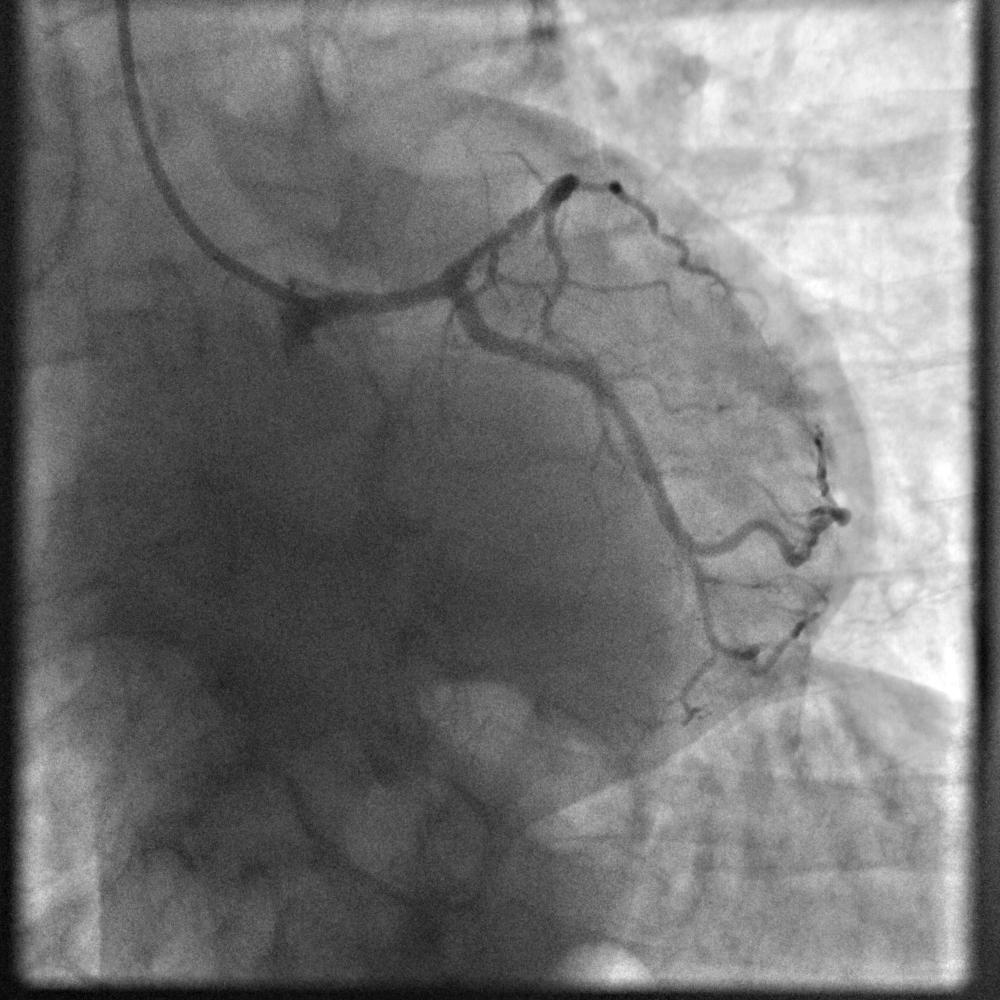Stenosis: (496, 218, 522, 241)
